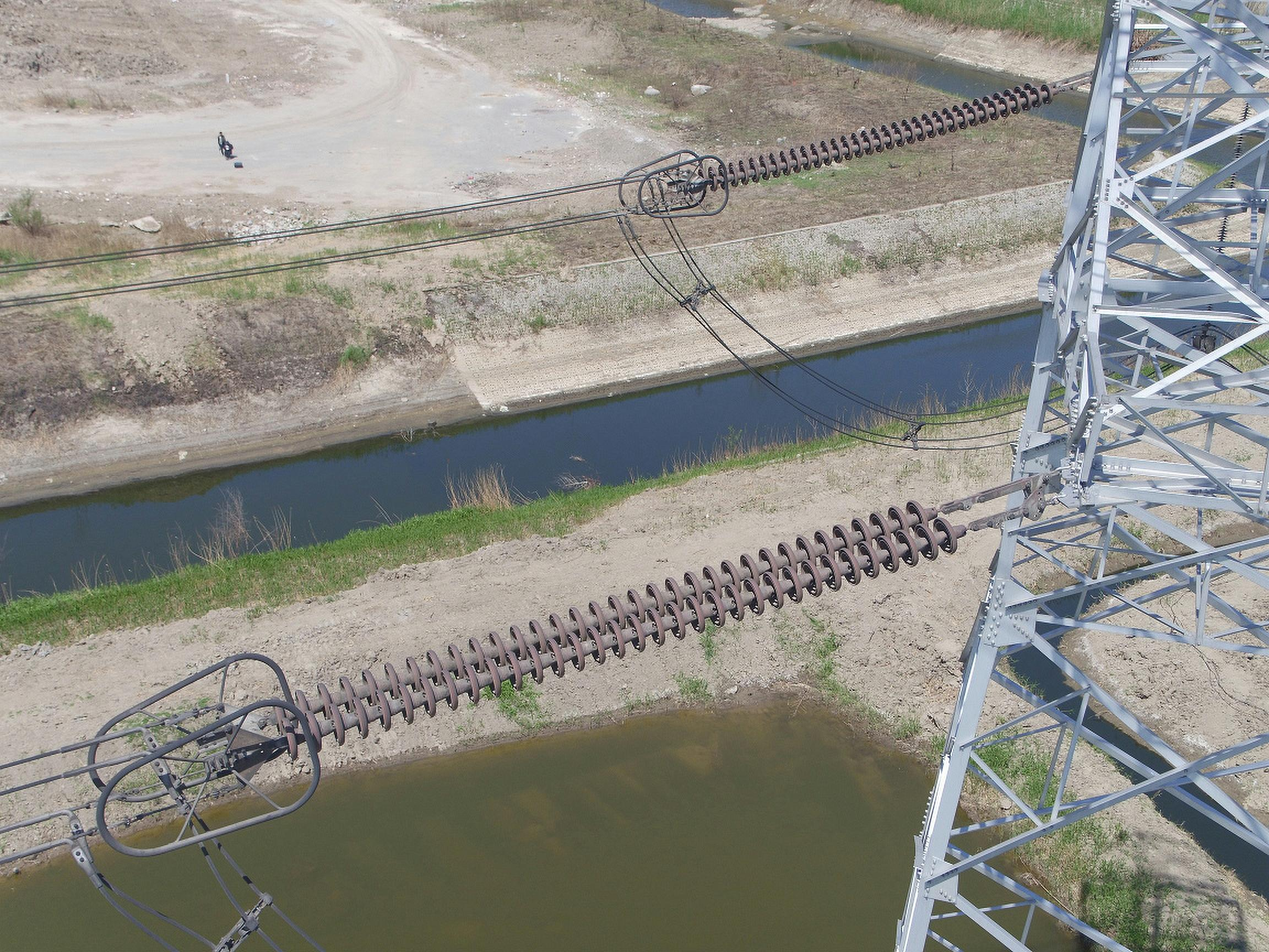insulator: (266, 496, 961, 764), (694, 80, 1057, 194)
